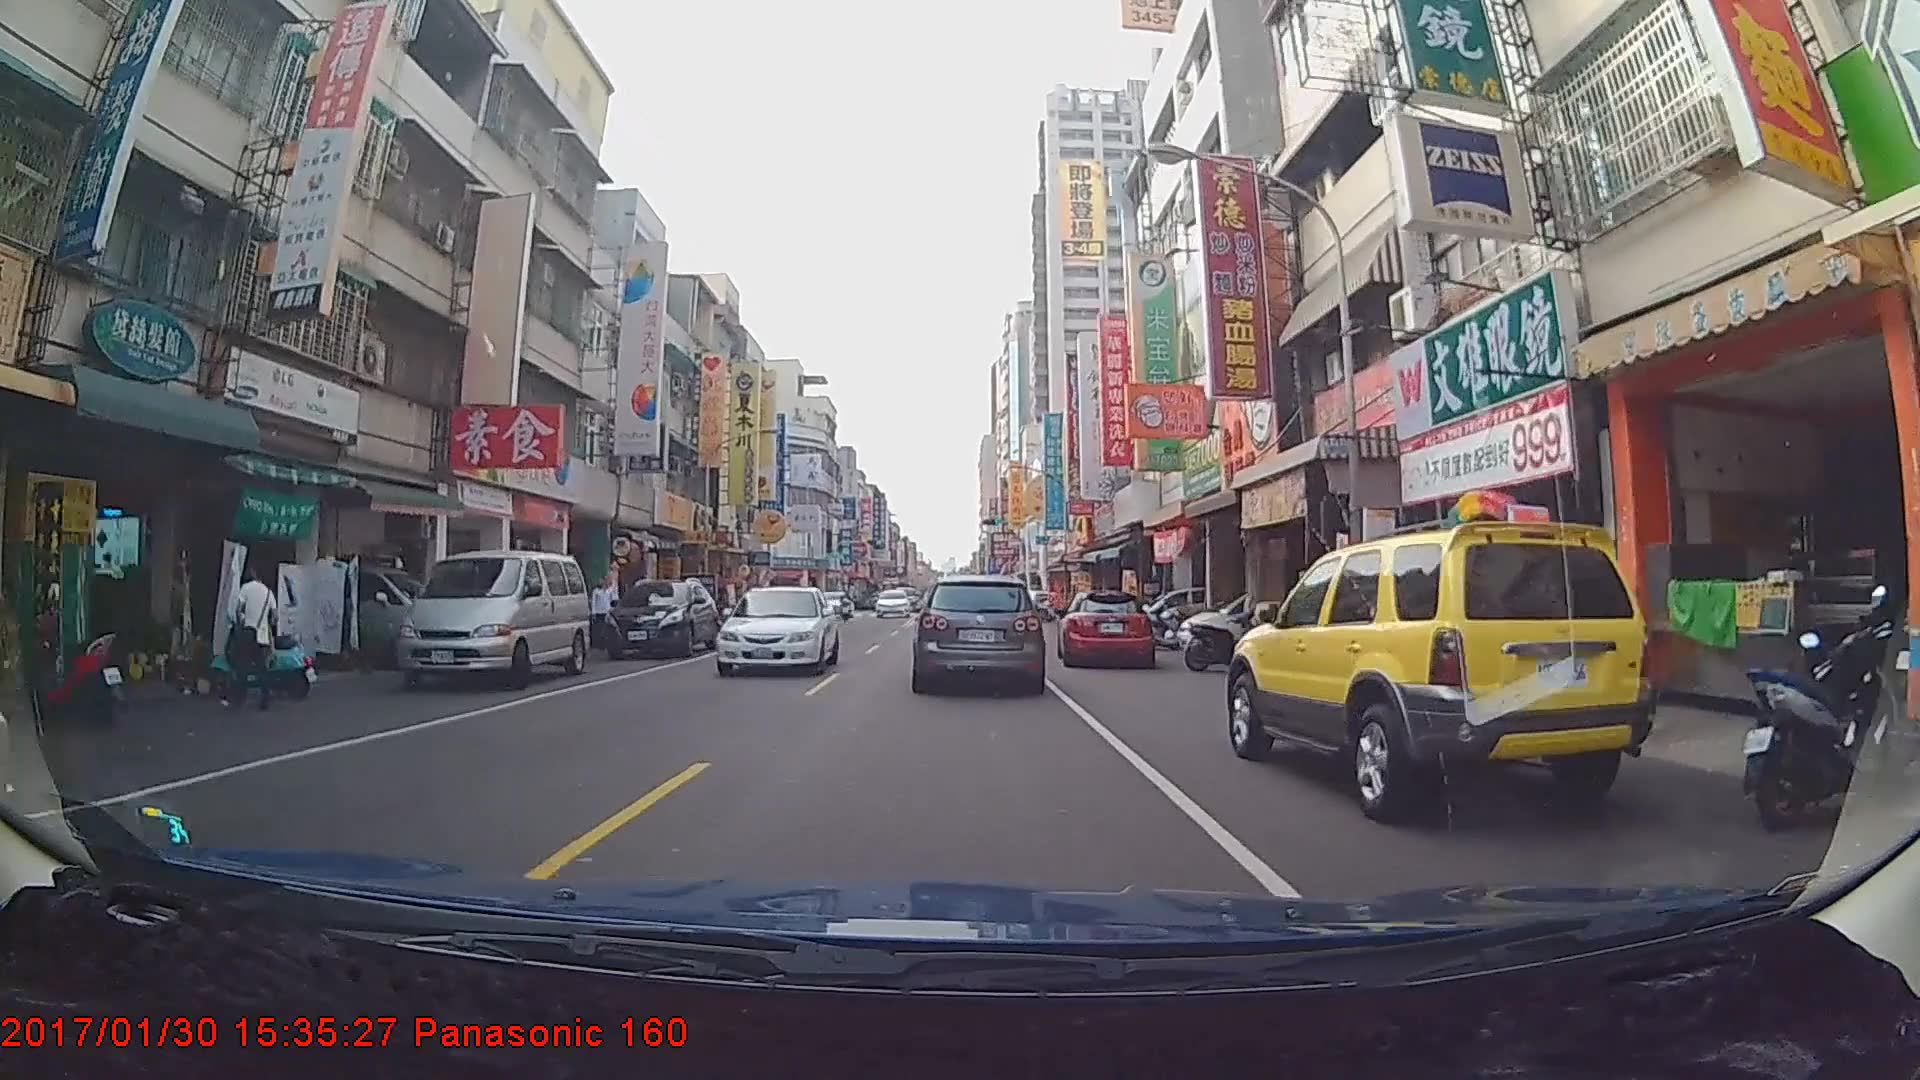pedestrian: (224, 561, 282, 708), (590, 575, 618, 647)
vehicle: (1226, 511, 1643, 818), (392, 548, 589, 687), (917, 574, 1046, 690), (716, 585, 838, 676), (603, 578, 716, 658), (1055, 587, 1154, 665), (875, 589, 911, 619)
